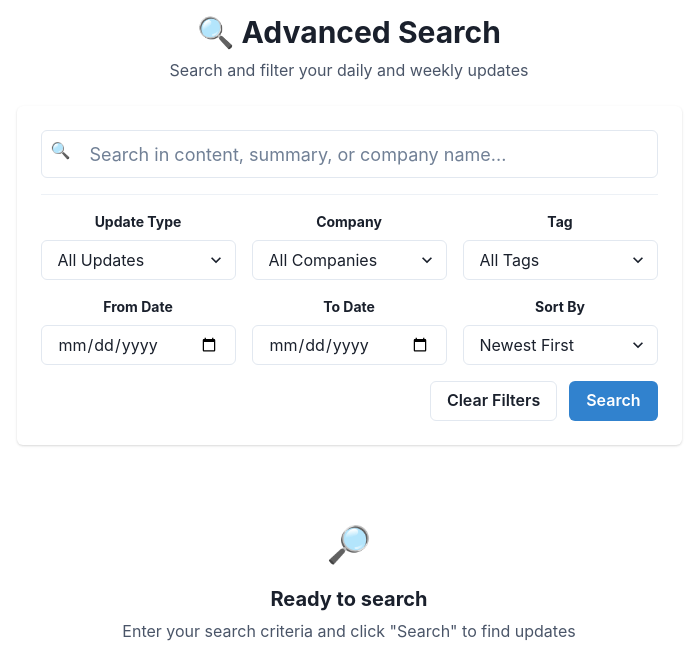
Test case: Search page › clears filters and returns to the ready state
The width and height of the screenshot is (700, 658).
Click the button "Search" at (613, 401), box [569,381,658,421]
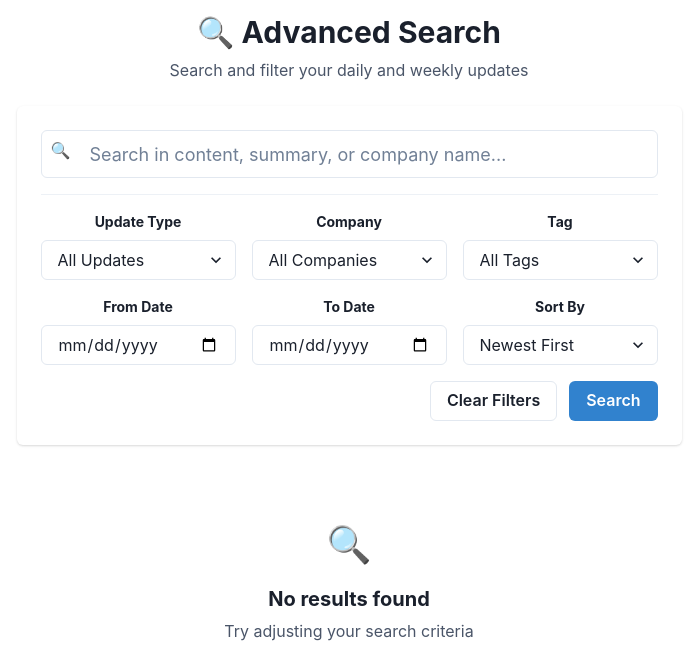
Check: the heading "No results found" is shown, box [268,587,430,611]
Click the button "Clear Filters" at (494, 401), box [430,381,557,421]
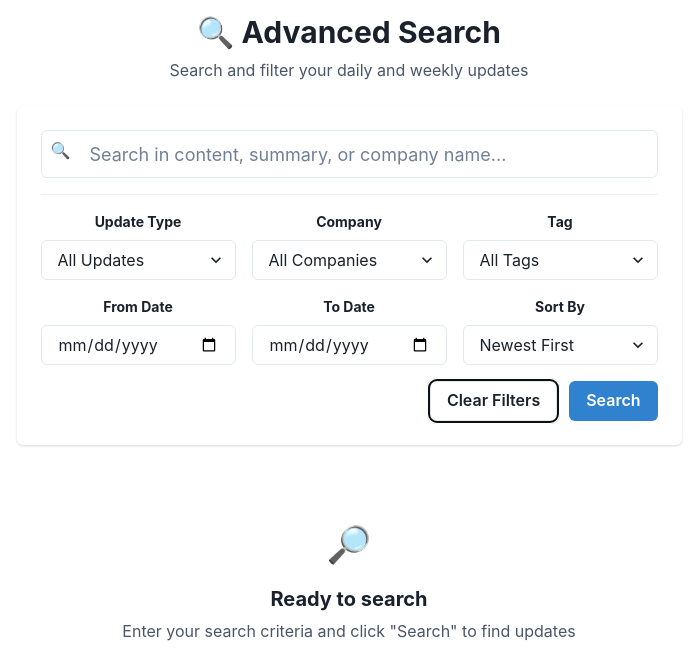
Check: the heading "Ready to search" is shown, box [270,587,428,611]
